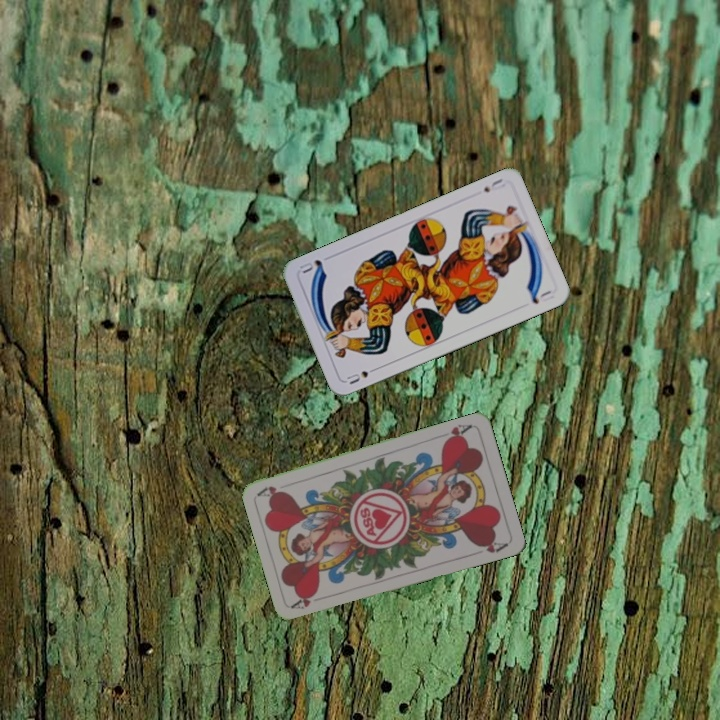HA: (439, 420, 475, 446), (288, 588, 321, 612)
SU: (343, 363, 381, 387), (479, 174, 508, 195)
